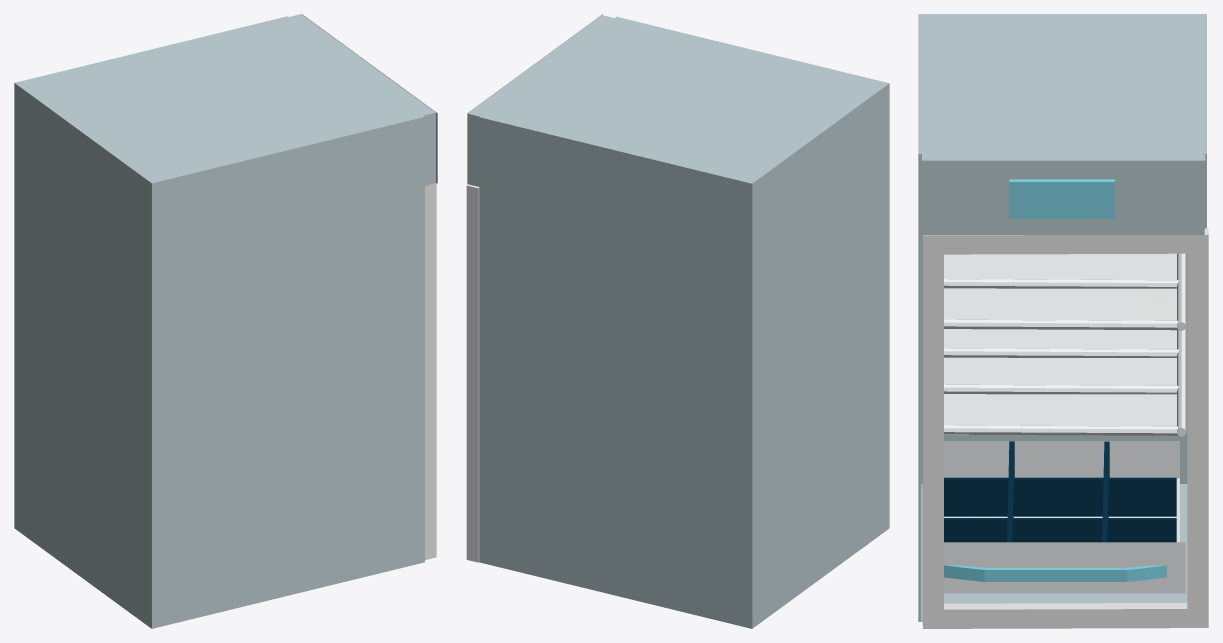
File: nevera refrigerador .fbx
The picture shows the model from 3 angles, left to right: view 1: azimuth 30°, elevation 25°; view 2: azimuth 150°, elevation 25°; view 3: azimuth 270°, elevation 25°; orthographic projection. The views are drawn at different scales.
Visible parts, largest first — view 1: Cubo.003, Cubo.002, Cubo.011, Cubo.004, Cubo.001; view 2: Cubo.001, Cubo.002, Cubo.011, Cubo.004, Cubo.003; view 3: Cubo.011, Cubo.009, Cubo.004, Cilindro.002, Cubo.017, Cilindro.003, Cubo.002, Cubo.003, Cubo.001.
Boxes of the visible parts, bbox=[...] form: Cubo.003: bbox=[150, 116, 424, 628]; Cubo.002: bbox=[14, 84, 153, 627]; Cubo.011: bbox=[15, 14, 435, 627]; Cubo.004: bbox=[425, 183, 436, 559]; Cubo.001: bbox=[14, 17, 287, 529]; Cubo.001: bbox=[479, 116, 754, 628]; Cubo.002: bbox=[748, 84, 887, 628]; Cubo.011: bbox=[467, 15, 888, 528]; Cubo.004: bbox=[466, 185, 479, 562]; Cubo.003: bbox=[616, 16, 889, 528]; Cubo.011: bbox=[920, 14, 1206, 621]; Cubo.009: bbox=[944, 441, 1185, 593]; Cubo.004: bbox=[922, 228, 1208, 628]; Cilindro.002: bbox=[944, 327, 1186, 436]; Cubo.017: bbox=[919, 160, 1204, 234]; Cilindro.003: bbox=[944, 253, 1186, 330]; Cubo.002: bbox=[921, 14, 1206, 483]; Cubo.003: bbox=[918, 14, 920, 621]; Cubo.001: bbox=[1201, 14, 1206, 228].
Bounding box in the file's own units: 64.34 × 94 × 52.81.
Materials: 2 (2 with a texture image).
